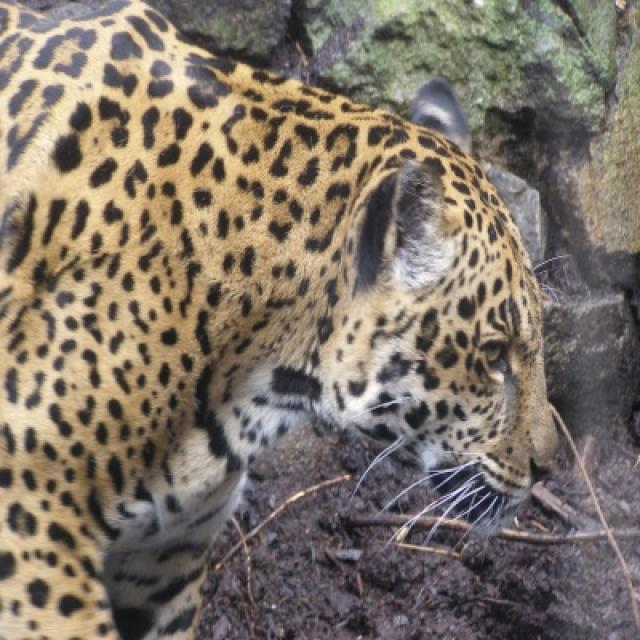Jaguar: (3, 0, 554, 638)
